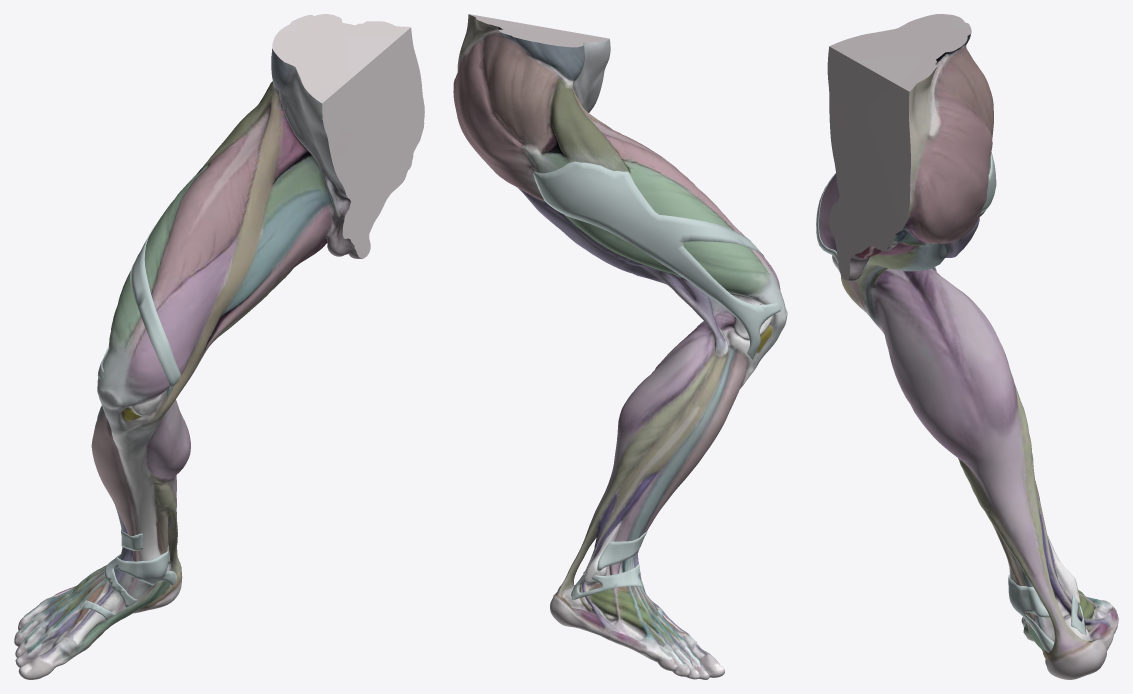
The model's file is 人物其它_Muscle man sections_Bent_right_leg_opt.glb.
3 renders of one model, left to right at view 1: azimuth 30°, elevation 25°; view 2: azimuth 150°, elevation 25°; view 3: azimuth 270°, elevation 25°, orthographic. The views are drawn at different scales.
Parts seen in each view (by area): view 1: Bent_right_leg_2, Bent_right_leg_1; view 2: Bent_right_leg_2, Bent_right_leg_1; view 3: Bent_right_leg_2, Bent_right_leg_1.
Boxes of the visible parts, <box> form: Bent_right_leg_2: <box>14,14,424,679</box>; Bent_right_leg_1: <box>79,174,196,621</box>; Bent_right_leg_2: <box>453,14,787,679</box>; Bent_right_leg_1: <box>532,161,781,616</box>; Bent_right_leg_2: <box>819,14,1118,679</box>; Bent_right_leg_1: <box>816,152,1086,652</box>.
Bounding box in the file's own units: 0.2269 × 0.3855 × 0.1417.
2 materials, 2 textured.
